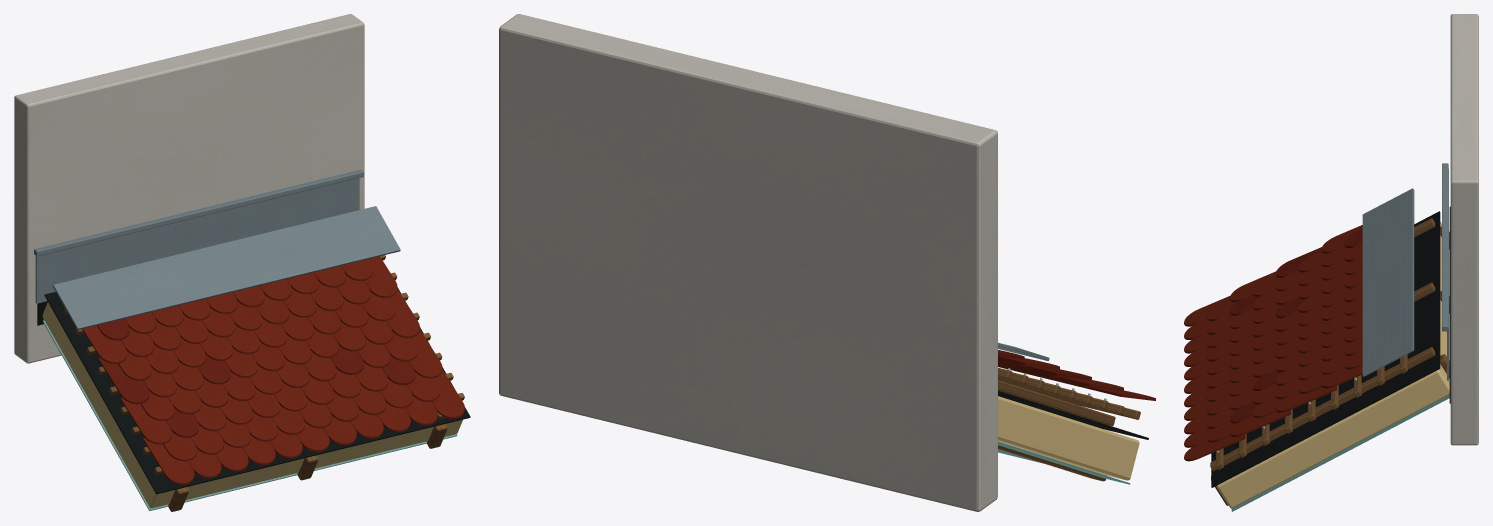
The model's file is modell.glb.
3 renders of one model, left to right at view 1: azimuth 30°, elevation 25°; view 2: azimuth 150°, elevation 25°; view 3: azimuth 270°, elevation 25°, orthographic. The views are drawn at different scales.
Parts seen in each view (by area): view 1: s07-wand_, s07-deckziegel_deckung, s07-anschlussblech_deckung, s07-daemmung_daemmung, s07-zusatzebene_zusatzebene, s07-deckziegel_deckung.001, s07-anschlussblech_, s07-luftdichtheit_luftdichtheit, s07-sparren_tragwerk, s07-lattung_lattung; view 2: s07-wand_, s07-daemmung_daemmung, s07-lattung_lattung, s07-deckziegel_deckung, s07-zusatzebene_zusatzebene; view 3: s07-deckziegel_deckung, s07-wand_, s07-anschlussblech_deckung, s07-zusatzebene_zusatzebene, s07-daemmung_daemmung, s07-lattung_lattung, s07-deckziegel_deckung.001, s07-anschlussblech_, s07-luftdichtheit_luftdichtheit, s07-zusatzebene_zusatzebene.001.
Boxes of the visible parts, bbox=[...] form: s07-wand_: bbox=[14, 14, 364, 363]; s07-deckziegel_deckung: bbox=[82, 256, 464, 484]; s07-anschlussblech_deckung: bbox=[35, 178, 400, 329]; s07-daemmung_daemmung: bbox=[42, 302, 462, 508]; s07-zusatzebene_zusatzebene: bbox=[44, 287, 470, 494]; s07-deckziegel_deckung.001: bbox=[97, 318, 415, 437]; s07-anschlussblech_: bbox=[34, 169, 363, 256]; s07-luftdichtheit_luftdichtheit: bbox=[42, 320, 457, 510]; s07-sparren_tragwerk: bbox=[168, 424, 447, 511]; s07-lattung_lattung: bbox=[64, 255, 464, 474]; s07-wand_: bbox=[499, 14, 997, 511]; s07-daemmung_daemmung: bbox=[998, 396, 1139, 480]; s07-lattung_lattung: bbox=[998, 367, 1140, 425]; s07-deckziegel_deckung: bbox=[998, 356, 1155, 400]; s07-zusatzebene_zusatzebene: bbox=[998, 390, 1148, 439]; s07-deckziegel_deckung: bbox=[1184, 225, 1362, 461]; s07-wand_: bbox=[1450, 14, 1478, 445]; s07-anschlussblech_deckung: bbox=[1362, 169, 1448, 380]; s07-zusatzebene_zusatzebene: bbox=[1211, 211, 1440, 487]; s07-daemmung_daemmung: bbox=[1217, 221, 1449, 508]; s07-lattung_lattung: bbox=[1210, 218, 1435, 471]; s07-deckziegel_deckung.001: bbox=[1230, 229, 1362, 423]; s07-anschlussblech_: bbox=[1442, 163, 1448, 331]; s07-luftdichtheit_luftdichtheit: bbox=[1231, 395, 1449, 511]; s07-zusatzebene_zusatzebene.001: bbox=[1449, 206, 1450, 403].
Bounding box in the file's own units: 2.25 × 2.13 × 1.67.
9 materials, 5 textured.
